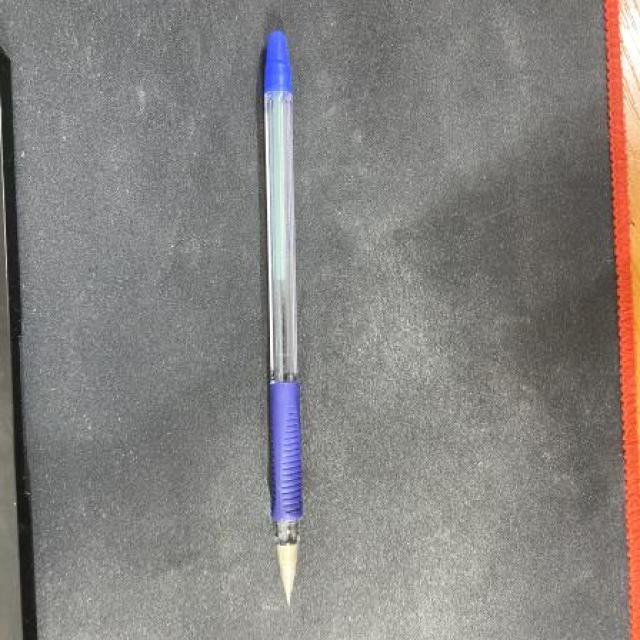Pen - Non Recyclable: (262, 32, 305, 607)
